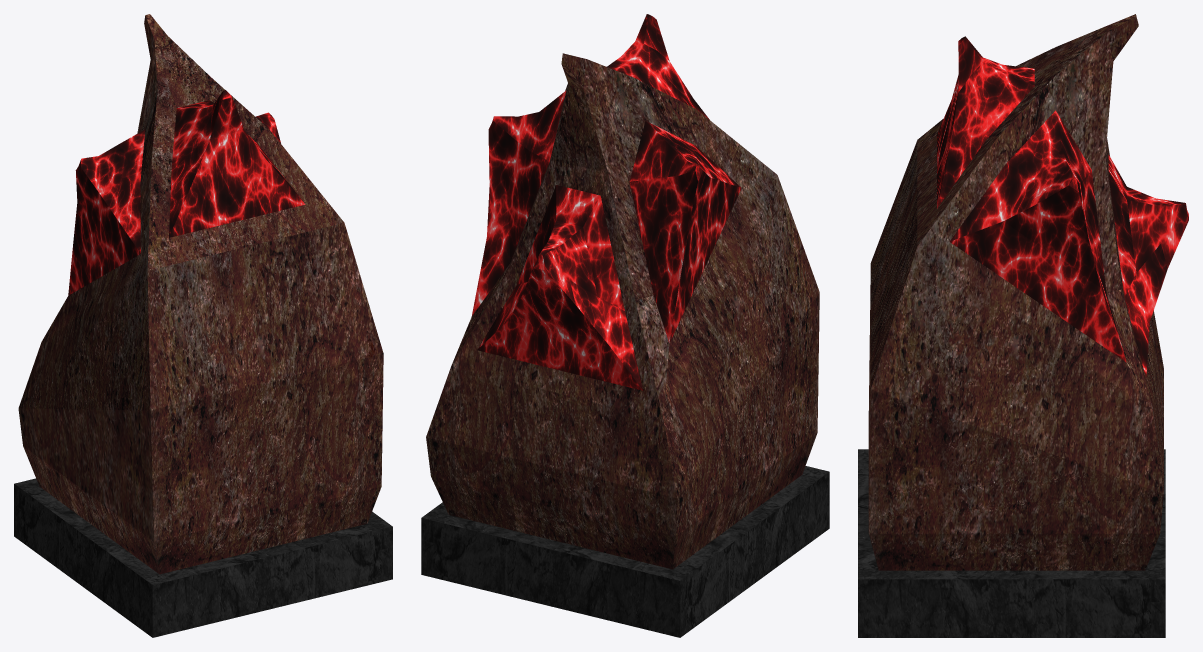
The model's file is EnemyShrine.fbx.
3 views of the same model, side by side, from view 1: azimuth 30°, elevation 25°; view 2: azimuth 150°, elevation 25°; view 3: azimuth 270°, elevation 25° (orthographic). The views are drawn at different scales.
Parts seen in each view (by area): view 1: EnemyShrine; view 2: EnemyShrine; view 3: EnemyShrine.
Part boxes in pixels (x1=…): EnemyShrine: x1=14, y1=14, x2=392, y2=637; EnemyShrine: x1=421, y1=14, x2=829, y2=637; EnemyShrine: x1=858, y1=14, x2=1188, y2=637.
Bounding box in the file's own units: 100 × 200 × 107.
3 materials, 3 textured.
